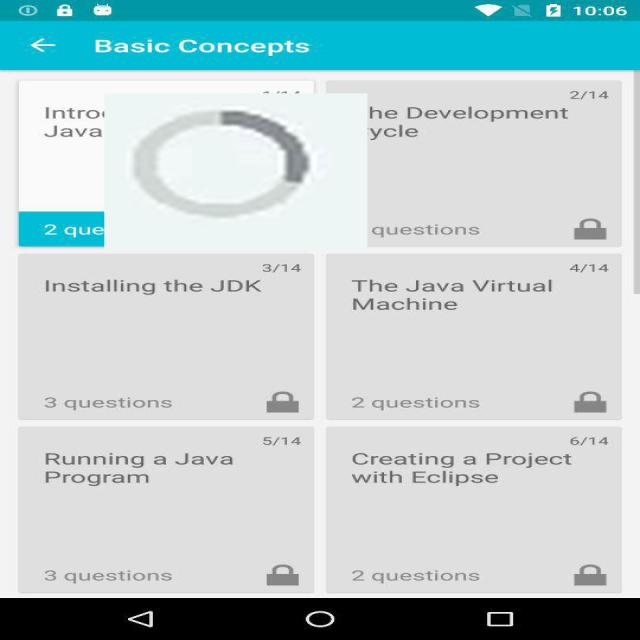misdirection: (105, 93, 368, 250)
